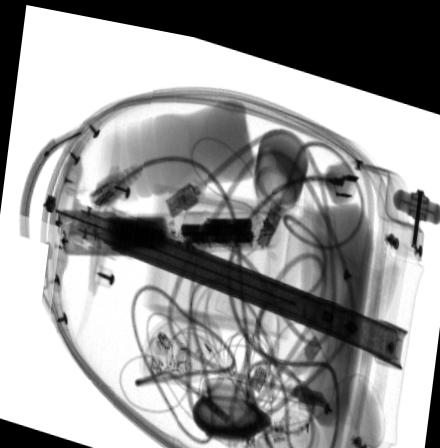Baton: (53, 201, 262, 251)
